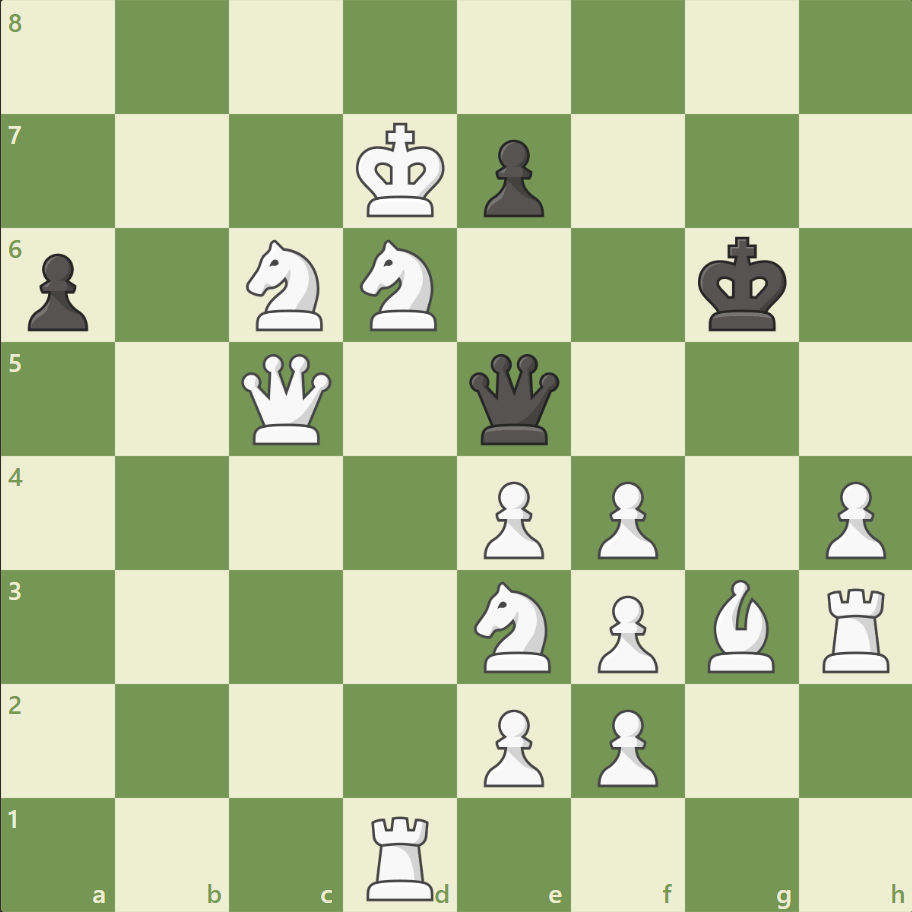B: (698, 574, 782, 676)
K: (351, 117, 451, 225)
N: (351, 234, 449, 337), (238, 234, 335, 337), (465, 575, 562, 677)
P: (474, 473, 549, 564), (474, 700, 549, 791), (588, 473, 662, 564), (815, 473, 889, 564), (588, 586, 662, 677), (588, 700, 662, 791)
Q: (237, 349, 336, 449)
R: (814, 579, 897, 676), (360, 806, 442, 904)
k: (692, 231, 792, 339)
p: (474, 132, 549, 223), (20, 246, 95, 337)
q: (464, 349, 563, 449)
